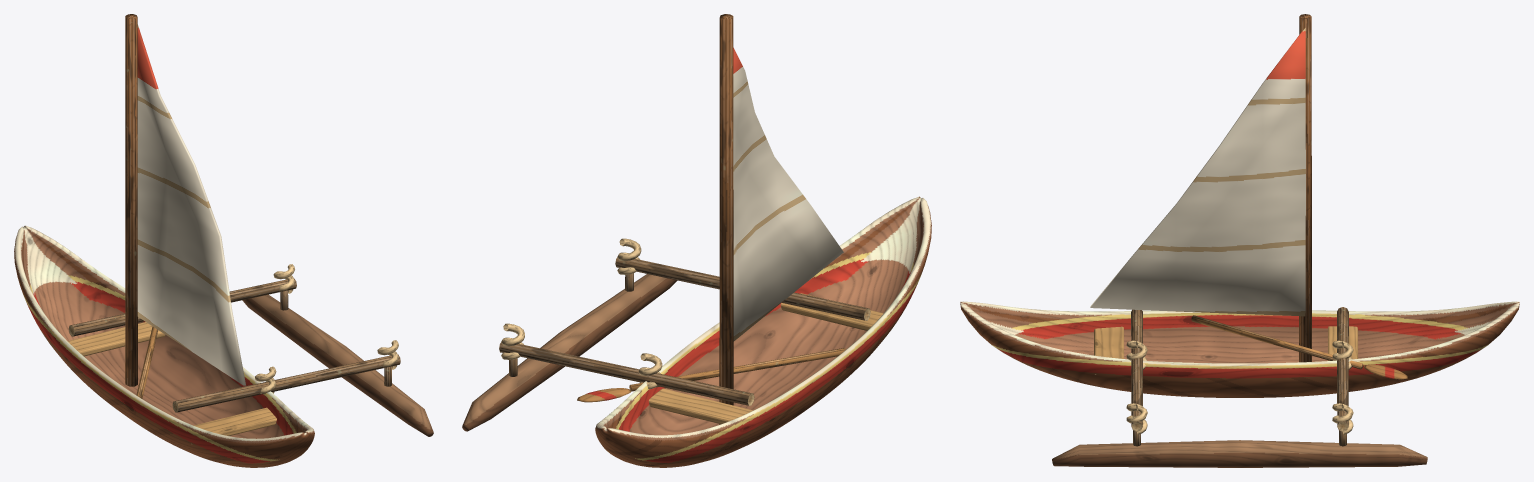
File: canoe.glb
3 views of the same model, side by side, from view 1: azimuth 30°, elevation 25°; view 2: azimuth 150°, elevation 25°; view 3: azimuth 270°, elevation 25° (orthographic). The views are drawn at different scales.
Parts seen in each view (by area): view 1: Canoe, Sail_cloth; view 2: Canoe, Sail_cloth; view 3: Canoe, Sail_cloth.
Boxes of the visible parts, <box> form: Canoe: <box>14,14,433,467</box>; Sail_cloth: <box>137,24,245,385</box>; Canoe: <box>462,14,931,467</box>; Sail_cloth: <box>733,47,843,341</box>; Canoe: <box>960,14,1519,467</box>; Sail_cloth: <box>1090,28,1305,316</box>.
Bounding box in the file's own units: 1.48 × 2.2 × 2.99.
1 material, 1 textured.
